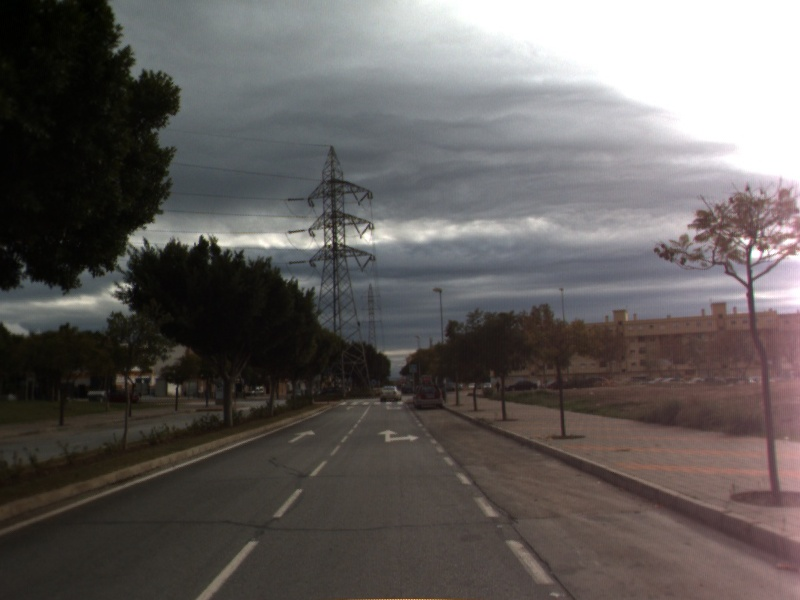STRAIGHT: (286, 427, 317, 445)
STRAIGHT_RIGHT: (376, 428, 422, 444)
